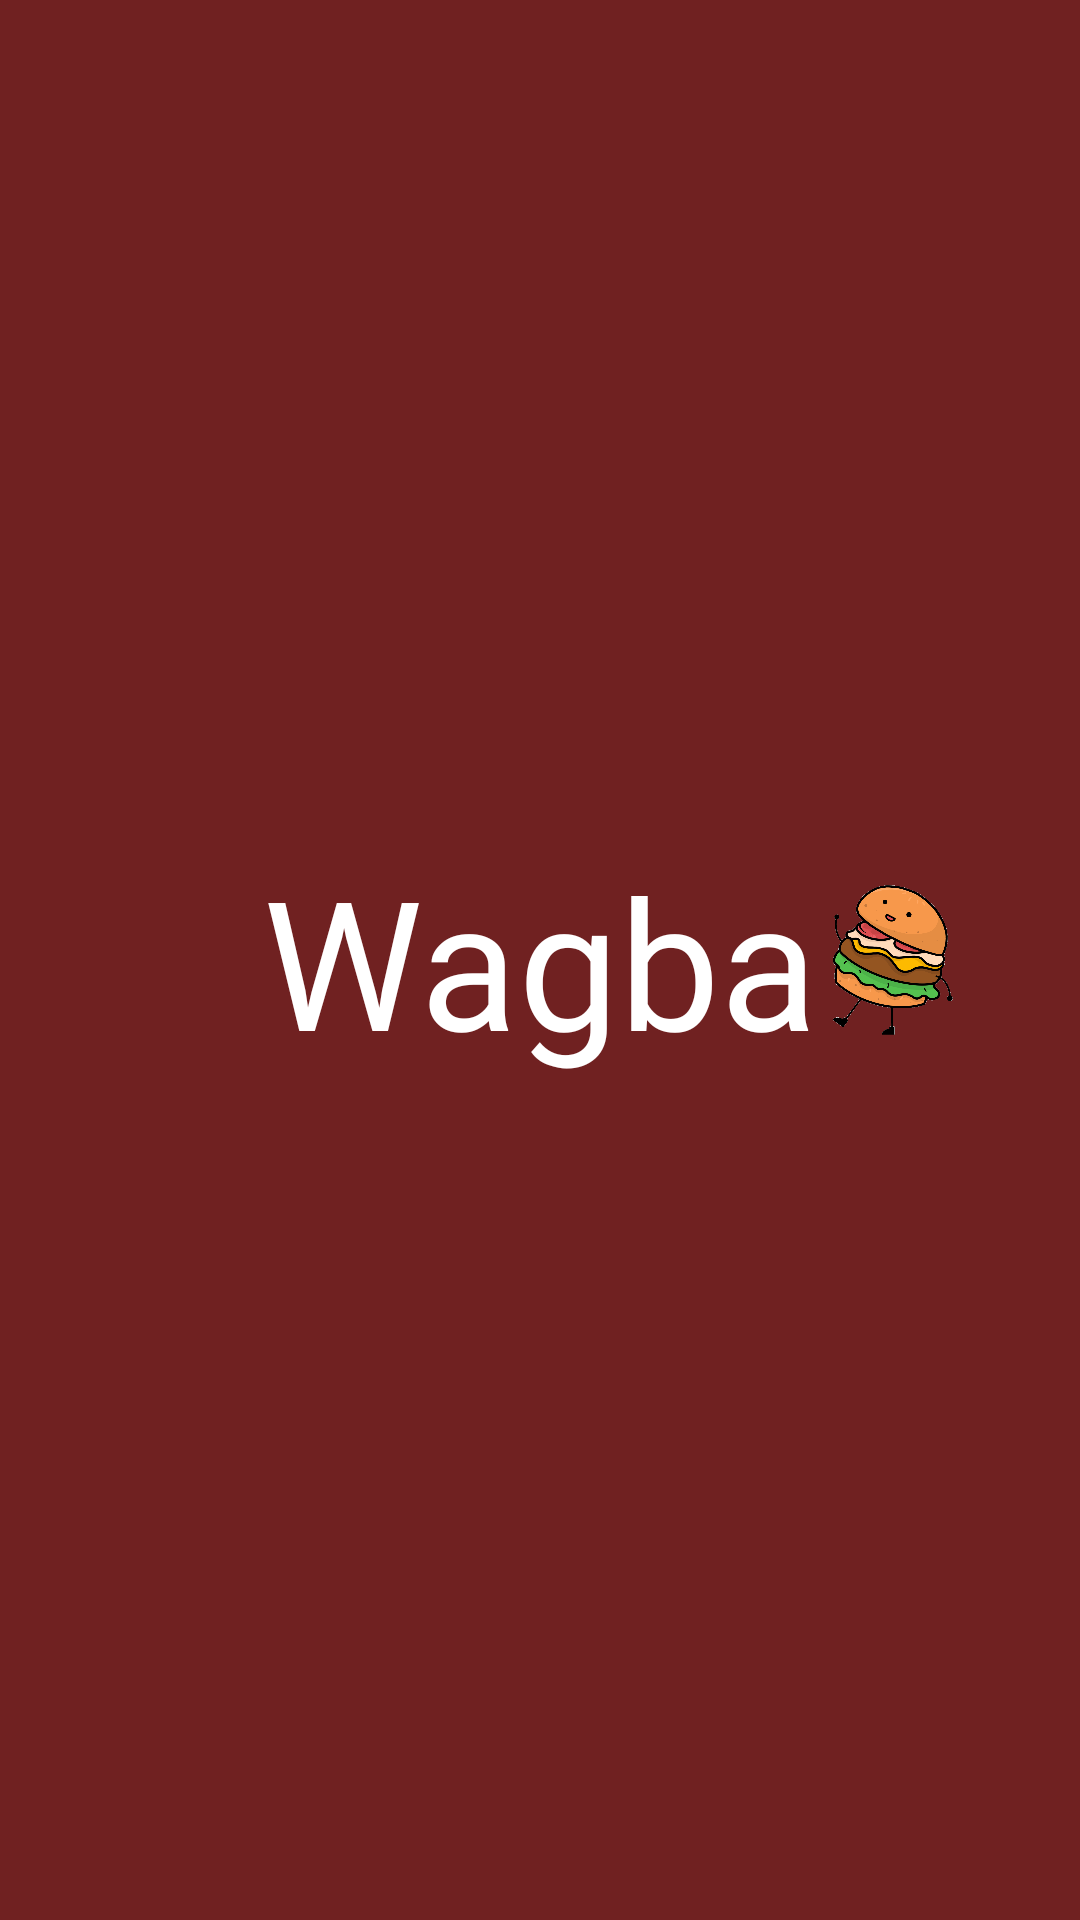

Named icons in this screenshot (1080x1920) and their bounding boxes, (left=x1, top=y1, right=x2, bottom=y2):
burger: (left=833, top=885, right=953, bottom=1035)
